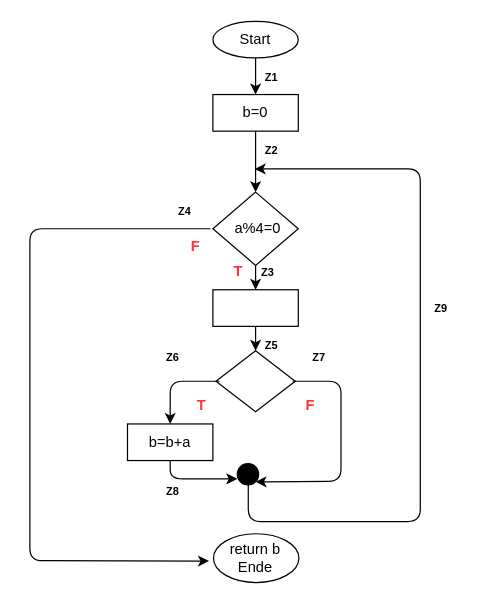
This 490x604 diagram has some shape labels left out. Here are the shapes that lost their labels. From the top down, the box of each, then its label:
(212, 289, 298, 326): a=a+2
(215, 350, 295, 412): a%2=0
